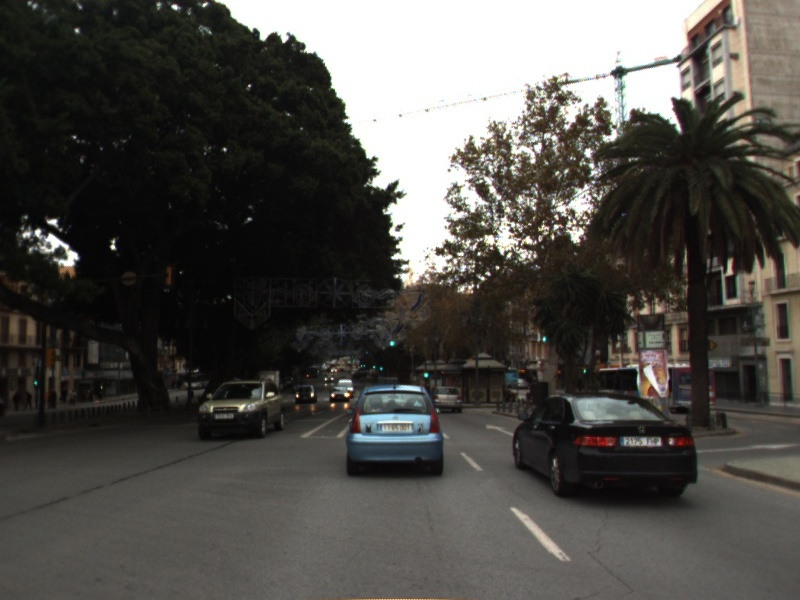STRAIGHT: (484, 422, 515, 437)
